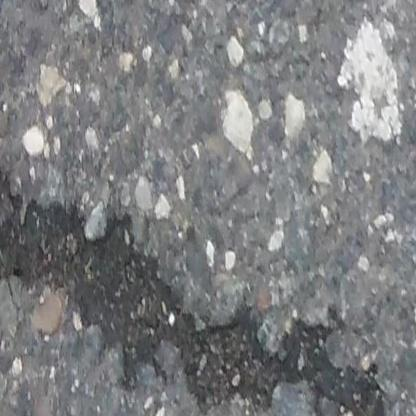Cracks: (0, 191, 416, 416)
